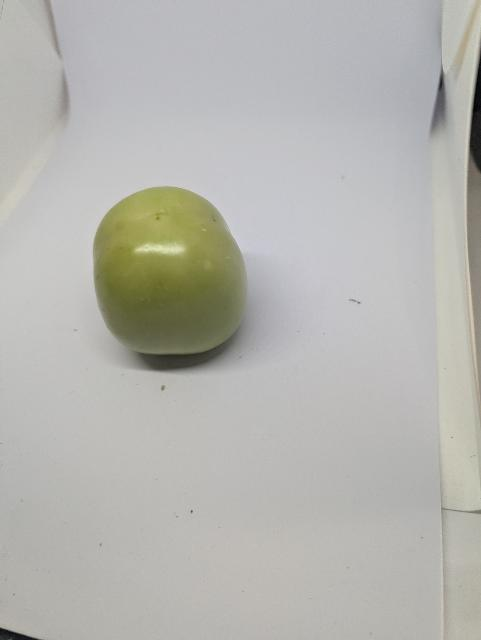green: (80, 184, 291, 369)
